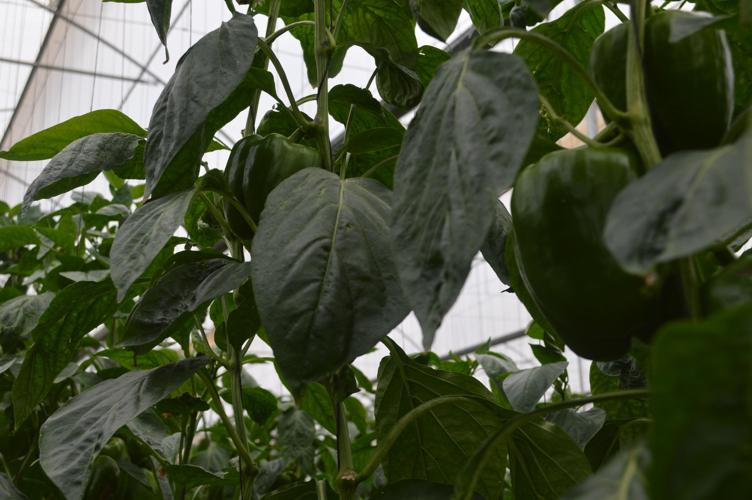BellPepper: (509, 150, 657, 362), (588, 11, 732, 151), (222, 135, 317, 235)
